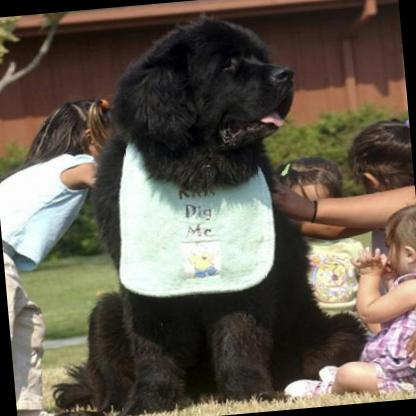Newfoundland: (20, 1, 368, 416)
